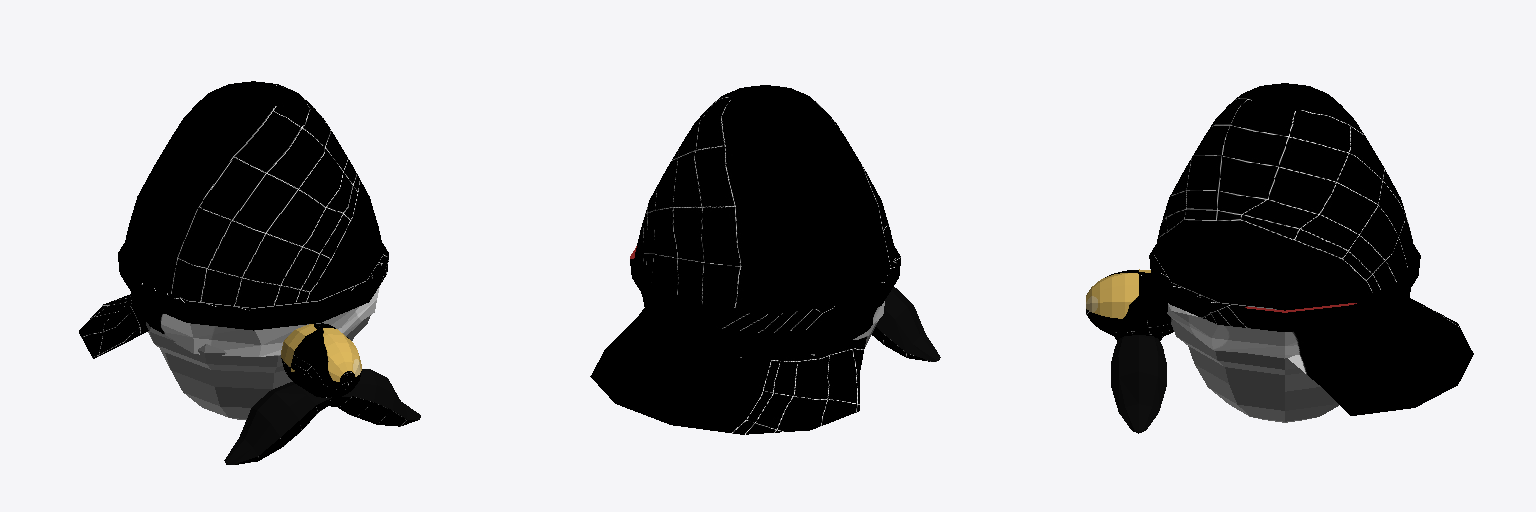
3 renders of one model, left to right at view 1: azimuth 30°, elevation 25°; view 2: azimuth 150°, elevation 25°; view 3: azimuth 270°, elevation 25°, orthographic.
Parts seen in each view (by area): view 1: polySurface1 pSphere1, pCube1, pSphere3, pSphere1 polySurface2, pSphere2; view 2: polySurface1 pSphere1, pSphere1 polySurface2, pCube1; view 3: polySurface1 pSphere1, pSphere3, pSphere1 polySurface2, pSphere2, pCube1.
Boxes of the visible parts, box(x1,y1,x2,y2) form: polySurface1 pSphere1: box(79, 81, 383, 358); pCube1: box(224, 369, 420, 464); pSphere3: box(146, 315, 370, 419); pSphere1 polySurface2: box(118, 243, 388, 330); pSphere2: box(281, 323, 361, 397); polySurface1 pSphere1: box(590, 85, 895, 434); pSphere1 polySurface2: box(630, 246, 900, 333); pCube1: box(872, 287, 940, 361); polySurface1 pSphere1: box(1154, 83, 1473, 415); pSphere3: box(1171, 318, 1338, 422); pSphere1 polySurface2: box(1149, 245, 1420, 331); pSphere2: box(1086, 269, 1173, 337); pCube1: box(1111, 335, 1166, 433).
Size of the model in its own units: 4.65 by 5.54 by 6.14.
5 materials, 4 textured.